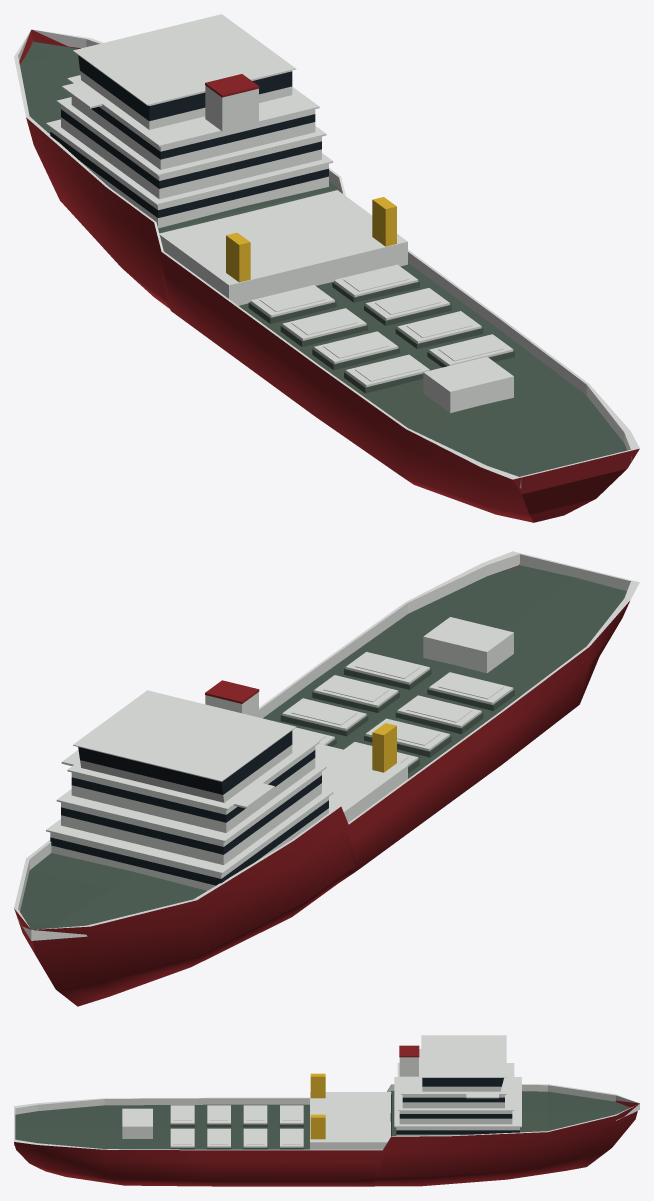
File: wellboat_large_LOD2.glb
3 views of the same model, one above another, from view 1: azimuth 30°, elevation 25°; view 2: azimuth 150°, elevation 25°; view 3: azimuth 270°, elevation 25° (orthographic). The views are drawn at different scales.
Visible parts, largest first — view 1: Superstructure, Hull, Deck, Windows, Crane; view 2: Superstructure, Hull, Deck, Windows, Crane; view 3: Hull, Superstructure, Deck, Windows, Crane.
Boxes of the visible parts, x1=… form: Superstructure: x1=14, y1=14, x2=639, y2=488; Hull: x1=19, y1=29, x2=639, y2=522; Deck: x1=20, y1=41, x2=626, y2=476; Windows: x1=50, y1=55, x2=328, y2=217; Crane: x1=226, y1=197, x2=396, y2=282; Superstructure: x1=14, y1=551, x2=639, y2=940; Hull: x1=14, y1=564, x2=630, y2=1006; Deck: x1=20, y1=565, x2=626, y2=929; Windows: x1=50, y1=730, x2=328, y2=885; Crane: x1=372, y1=723, x2=396, y2=772; Hull: x1=14, y1=1045, x2=639, y2=1186; Superstructure: x1=14, y1=1035, x2=639, y2=1150; Deck: x1=15, y1=1091, x2=630, y2=1149; Windows: x1=396, y1=1078, x2=519, y2=1134; Crane: x1=310, y1=1073, x2=325, y2=1139.
Bounding box in the file's own units: 23 × 23.78 × 116.
